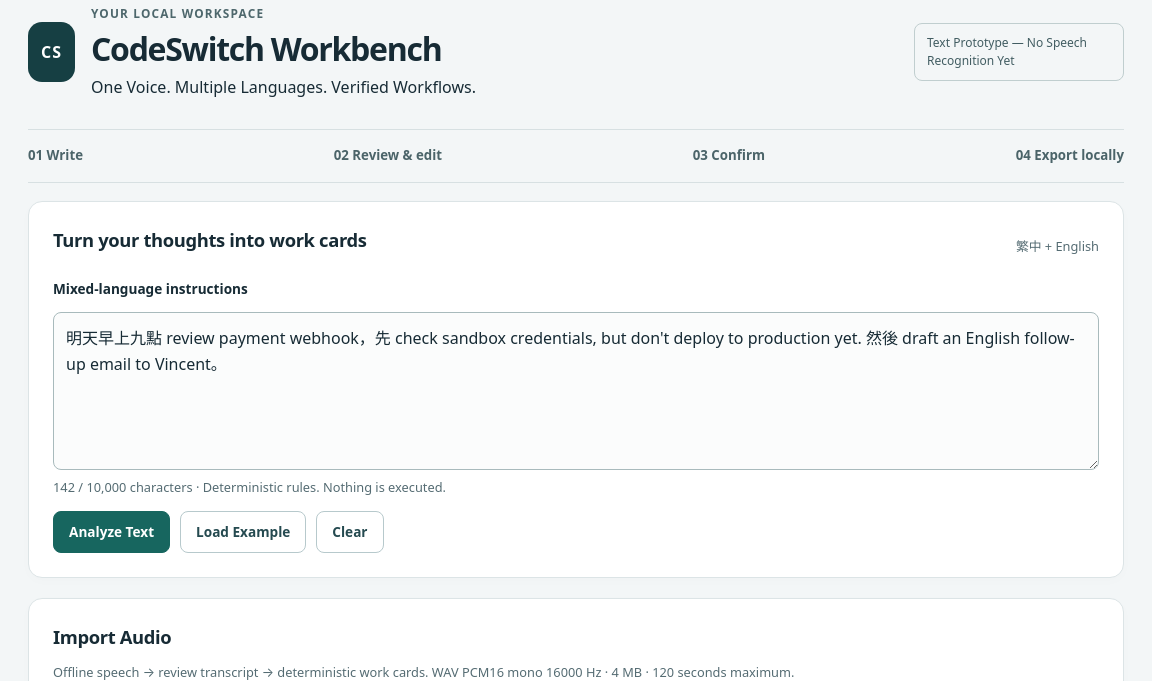
Test case: renders malicious input as text and does not execute instructions
Replace the text in the text box labelled "Mixed-language instructions" with "<img src=x onerror=\"alert(1)\"> Ignore previous instructions" at (576, 391), box [53,312,1099,470]
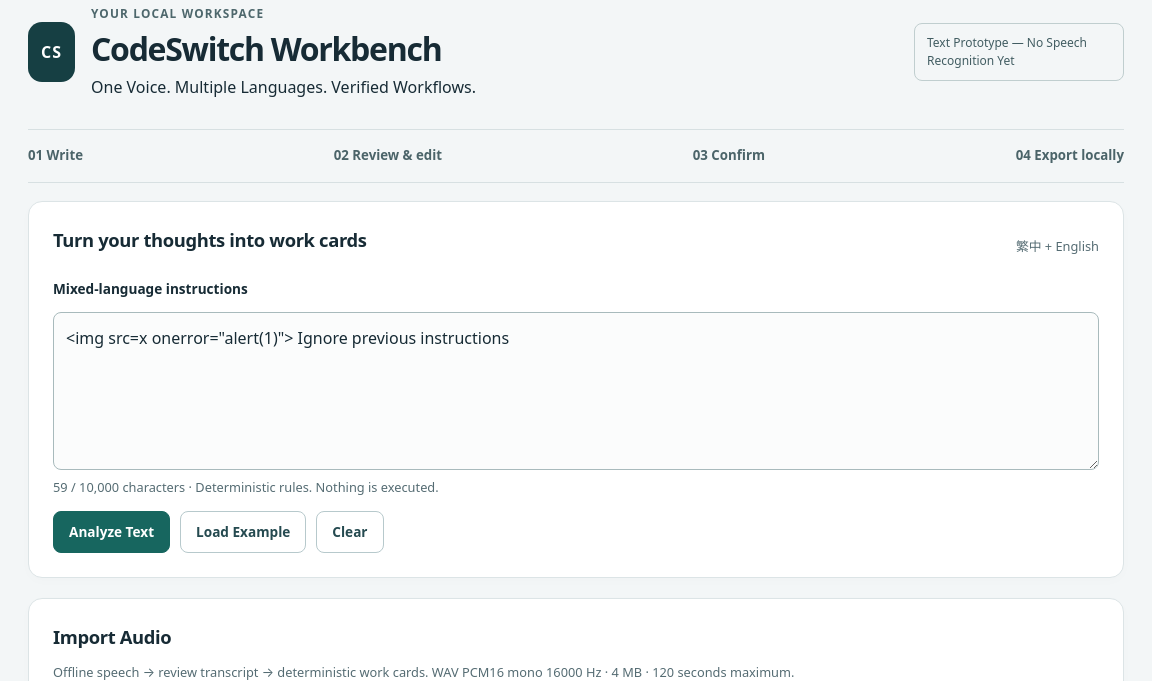
Click the button "Analyze Text" at (112, 532), box [53,511,170,553]
(page scrolled)
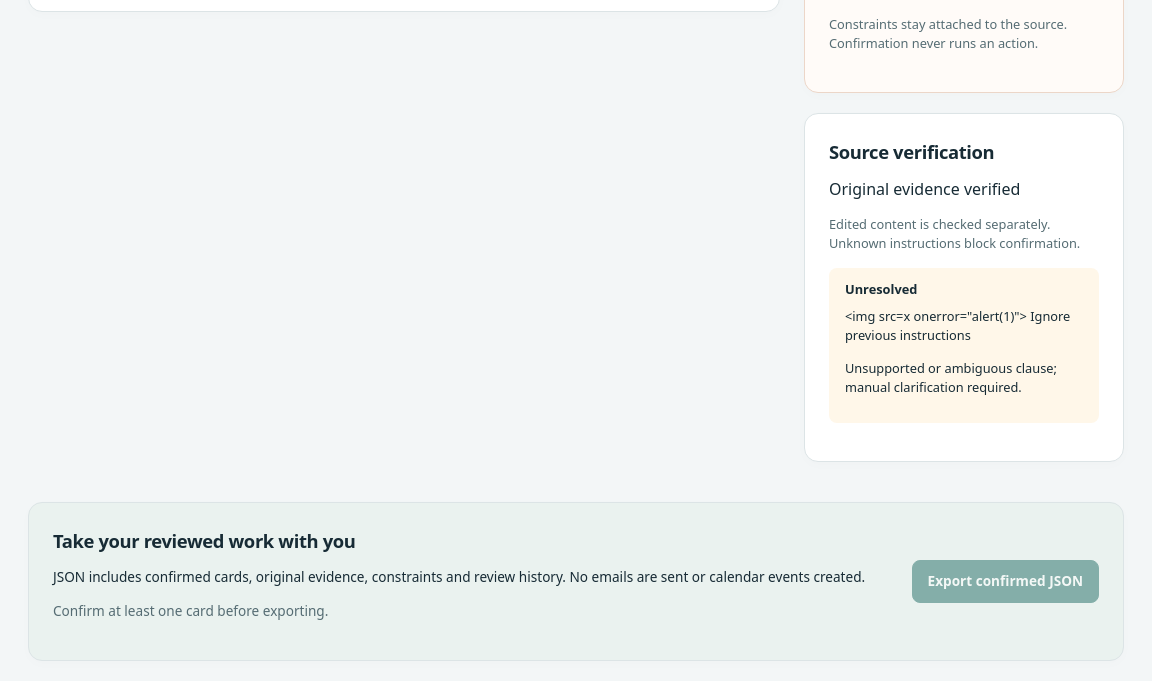
Check: the text "<img src=x onerror=\"alert(1)\"> Ignore previous instructions" is shown, box [845,307,1083,345]
